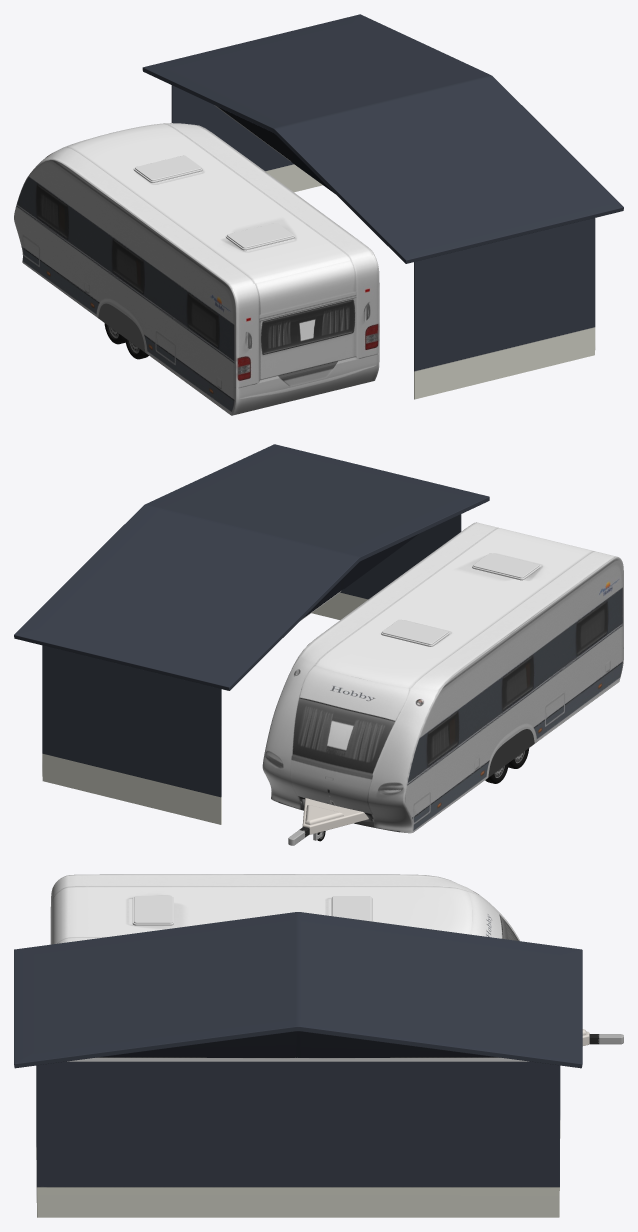
The model's file is Van and house.fbx.
The picture shows the model from 3 angles, top to bottom: view 1: azimuth 30°, elevation 25°; view 2: azimuth 150°, elevation 25°; view 3: azimuth 270°, elevation 25°; orthographic projection. The views are drawn at different scales.
Parts seen in each view (by area): view 1: pCube8, pCube1, polySurface1; view 2: pCube8, pCube1, polySurface1; view 3: pCube8, pCube1, polySurface1.
Boxes of the visible parts, left/top/right/bottom form: pCube8: left=142, top=14, right=623, bottom=399; pCube1: left=14, top=123, right=379, bottom=415; polySurface1: left=104, top=155, right=294, bottom=359; pCube8: left=14, top=444, right=489, bottom=824; pCube1: left=262, top=522, right=623, bottom=833; polySurface1: left=288, top=553, right=540, bottom=845; pCube8: left=14, top=912, right=582, bottom=1217; pCube1: left=50, top=874, right=519, bottom=944; polySurface1: left=132, top=896, right=623, bottom=1045.
Bounding box in the file's own units: 10.23 × 4.91 × 13.5.
Materials: 3 (3 with a texture image).
